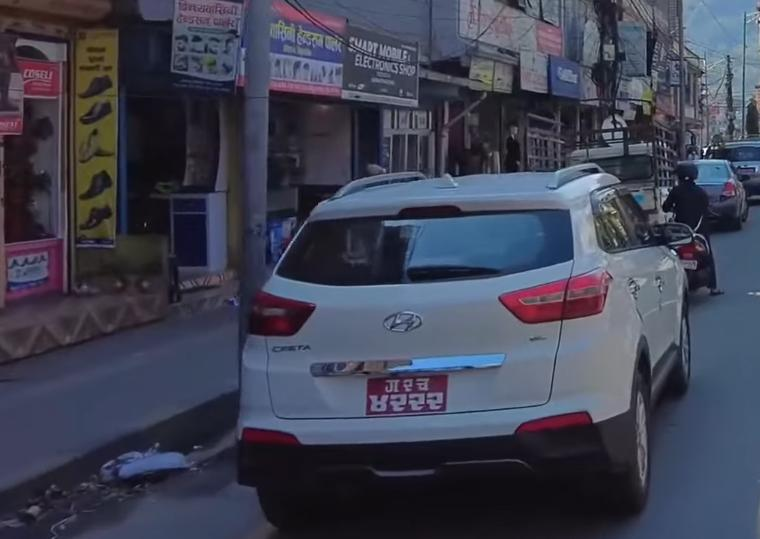car: (236, 159, 684, 503), (686, 159, 752, 230)
